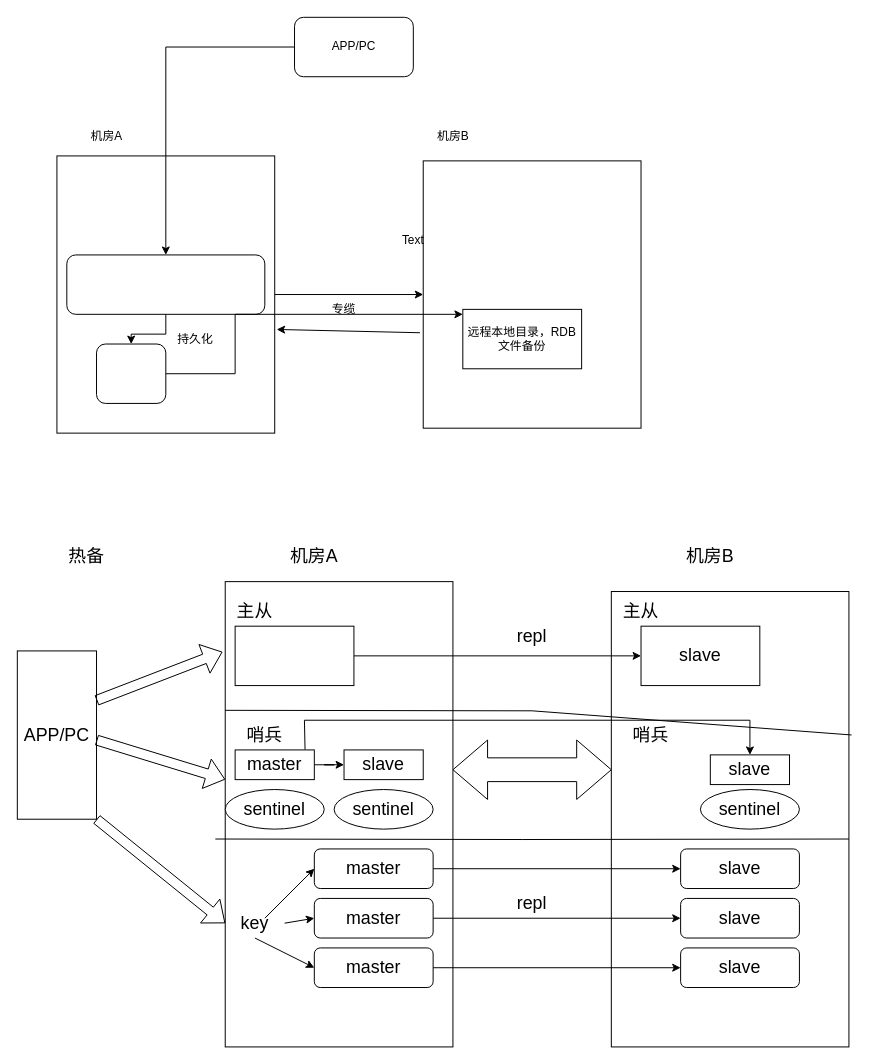
Some shapes in this 870 by 1064 pixel diagram are drawn without their labels. Here are the shapes that lost their labels. From the top down, the centre of each, then its label:
At (165,284): "redis单机，哨兵，主从".
At (131,373): "RDB文件".
At (294,655): "masster".
At (531,769): "网络专线".
